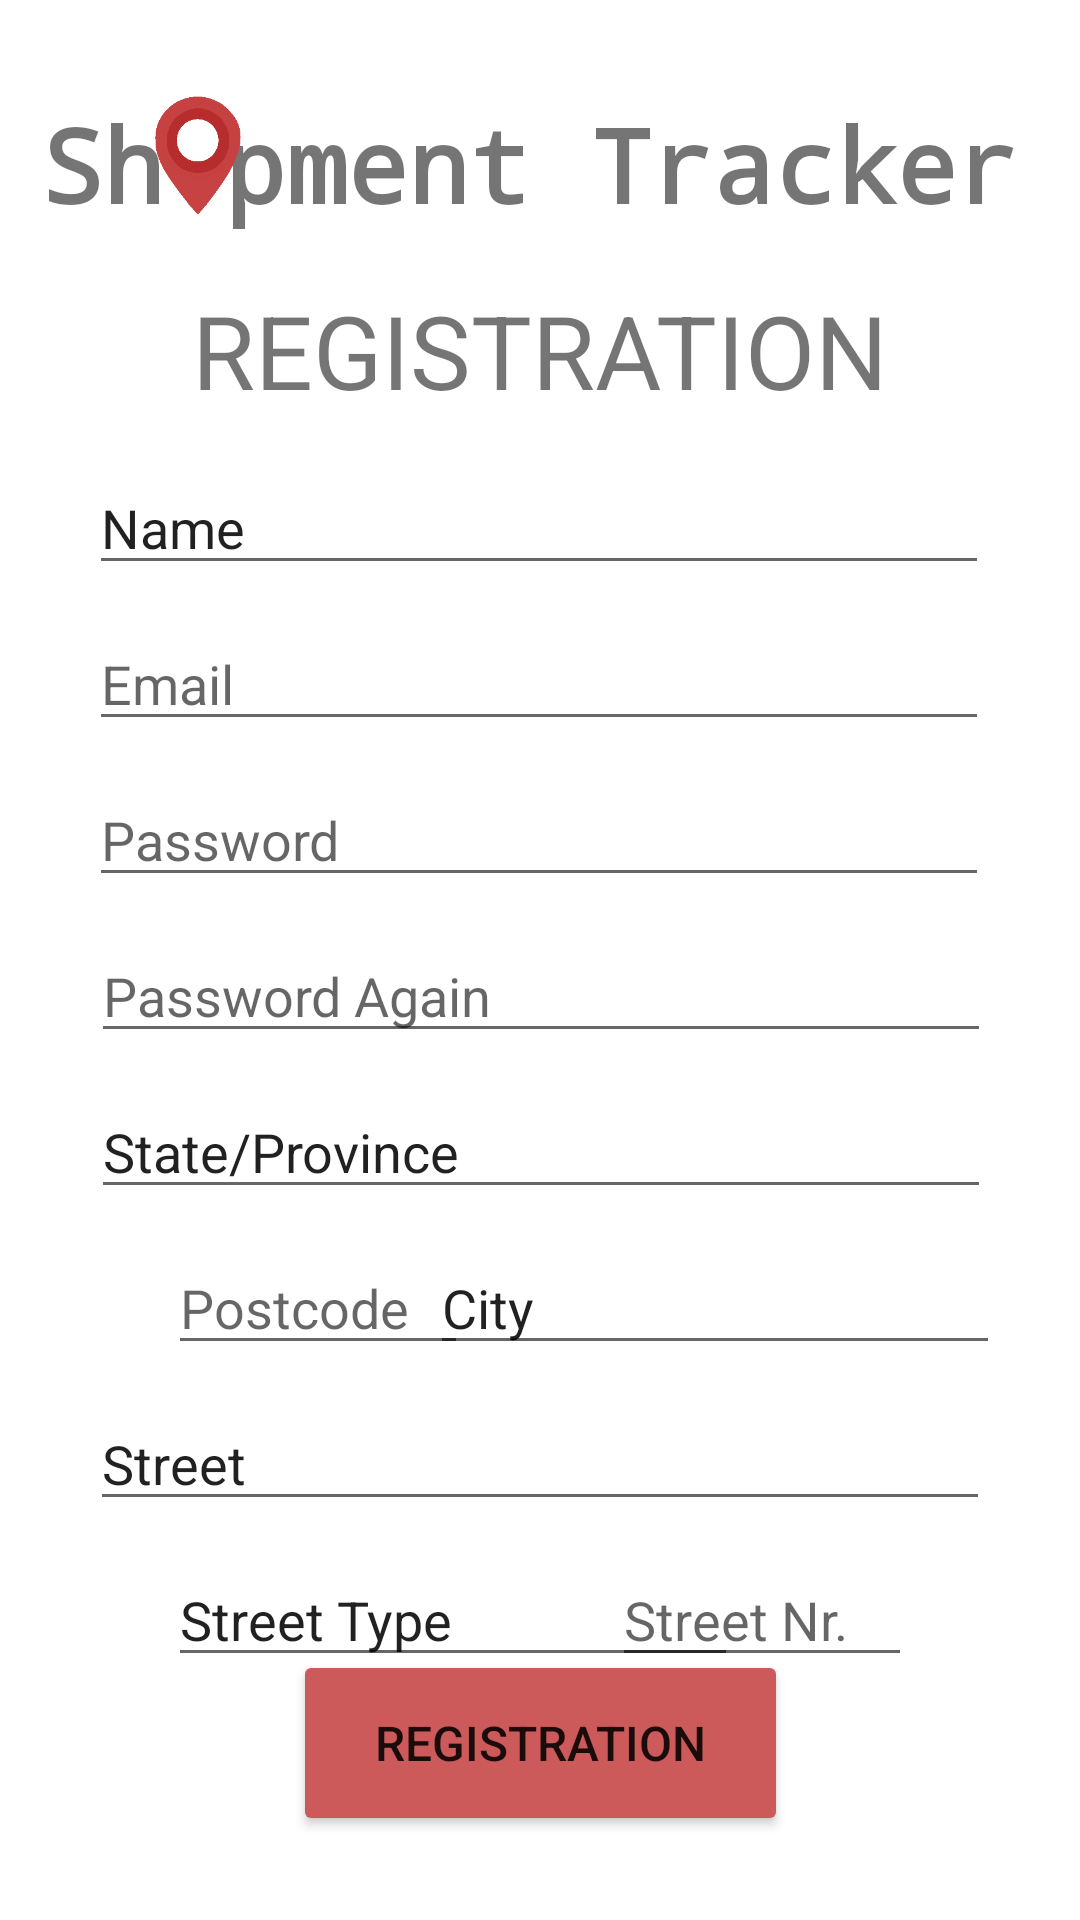

Named icons in this screenshot (1080*1920) and their centers, point (x, y):
pin: point (198, 156)
